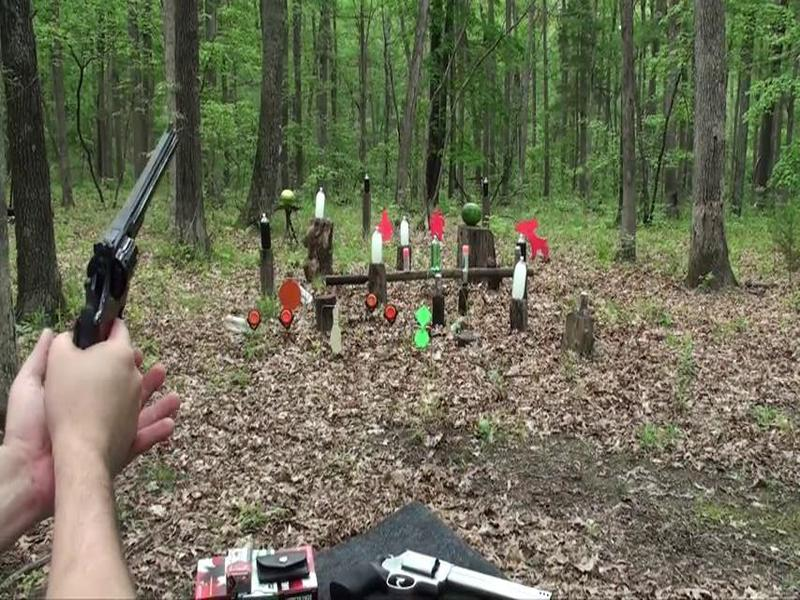Revolver: (55, 118, 190, 367)
